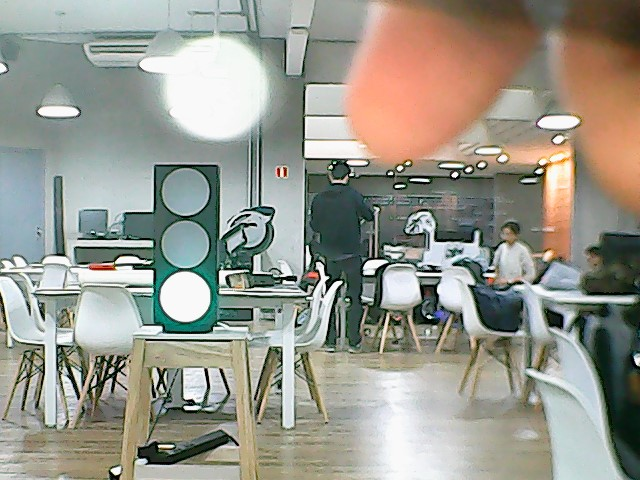verde: (148, 160, 226, 337)
